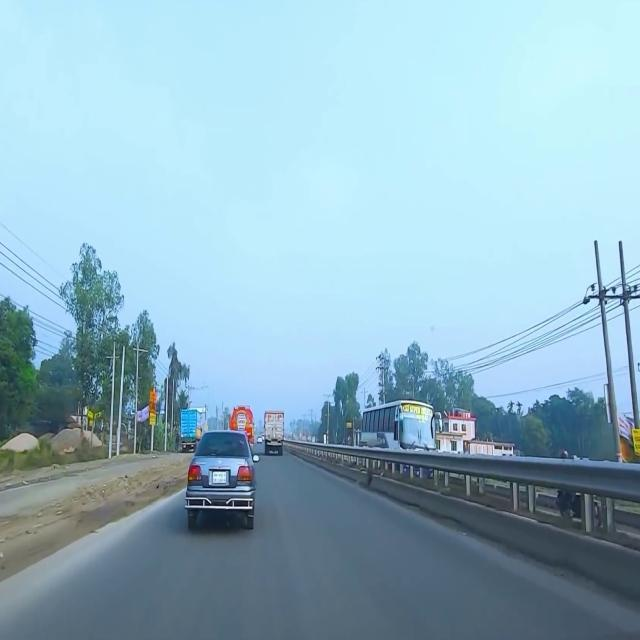black: (184, 429, 258, 538)
